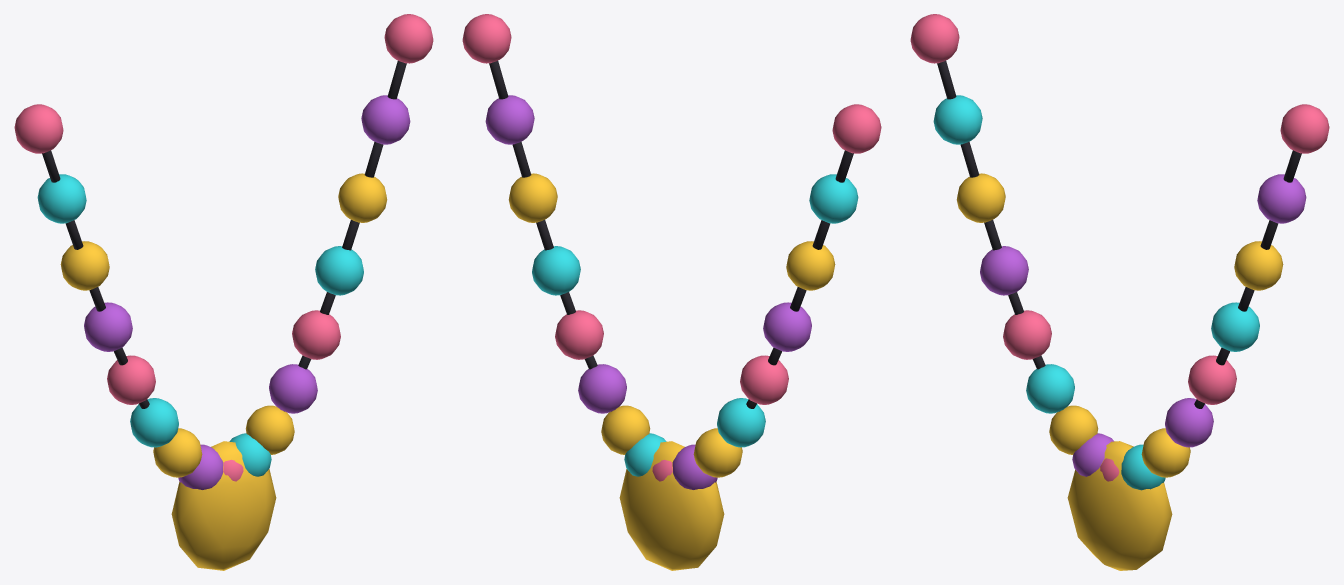
File: dangle_beads.glb
3 renders of one model, left to right at view 1: azimuth 30°, elevation 25°; view 2: azimuth 150°, elevation 25°; view 3: azimuth 330°, elevation 25°, orthographic.
Parts seen in each view (by area): view 1: Center Charm, Bead 0, Bead 16, Bead 11, Bead 12, Bead 13, Bead 15, Bead 14, Bead 1, Bead 2, Bead 3, Bead 4 (+5 smaller); view 2: Center Charm, Bead 0, Bead 16, Bead 11, Bead 12, Bead 13, Bead 15, Bead 14, Bead 1, Bead 2, Bead 3, Bead 4 (+5 smaller); view 3: Center Charm, Bead 0, Bead 16, Bead 5, Bead 4, Bead 3, Bead 1, Bead 2, Bead 15, Bead 14, Bead 13, Bead 11 (+5 smaller).
Boxes of the visible parts, left/top/right/bottom form: Center Charm: left=171, top=441, right=276, bottom=570; Bead 0: left=14, top=104, right=63, bottom=153; Bead 16: left=384, top=14, right=433, bottom=63; Bead 11: left=269, top=364, right=317, bottom=413; Bead 12: left=292, top=310, right=340, bottom=359; Bead 13: left=315, top=246, right=363, bottom=295; Bead 15: left=361, top=95, right=410, bottom=144; Bead 14: left=338, top=173, right=387, bottom=222; Bead 1: left=37, top=174, right=86, bottom=223; Bead 2: left=60, top=241, right=109, bottom=290; Bead 3: left=84, top=302, right=132, bottom=351; Bead 4: left=107, top=355, right=155, bottom=404; Center Charm: left=619, top=441, right=724, bottom=570; Bead 0: left=832, top=104, right=881, bottom=153; Bead 16: left=462, top=14, right=511, bottom=63; Bead 11: left=578, top=364, right=626, bottom=413; Bead 12: left=555, top=310, right=603, bottom=359; Bead 13: left=532, top=246, right=580, bottom=295; Bead 15: left=485, top=95, right=534, bottom=144; Bead 14: left=508, top=173, right=557, bottom=222; Bead 1: left=809, top=174, right=858, bottom=223; Bead 2: left=786, top=241, right=835, bottom=290; Bead 3: left=763, top=302, right=811, bottom=351; Bead 4: left=740, top=355, right=788, bottom=404; Center Charm: left=1067, top=441, right=1172, bottom=570; Bead 0: left=910, top=14, right=959, bottom=63; Bead 16: left=1280, top=104, right=1329, bottom=153; Bead 5: left=1026, top=364, right=1074, bottom=413; Bead 4: left=1003, top=310, right=1051, bottom=359; Bead 3: left=980, top=246, right=1028, bottom=295; Bead 1: left=933, top=95, right=982, bottom=144; Bead 2: left=956, top=173, right=1005, bottom=222; Bead 15: left=1257, top=174, right=1306, bottom=223; Bead 14: left=1234, top=241, right=1283, bottom=290; Bead 13: left=1211, top=302, right=1259, bottom=351; Bead 11: left=1165, top=398, right=1213, bottom=447.
Size of the model in its own units: 3.45 by 4.08 by 0.44.
